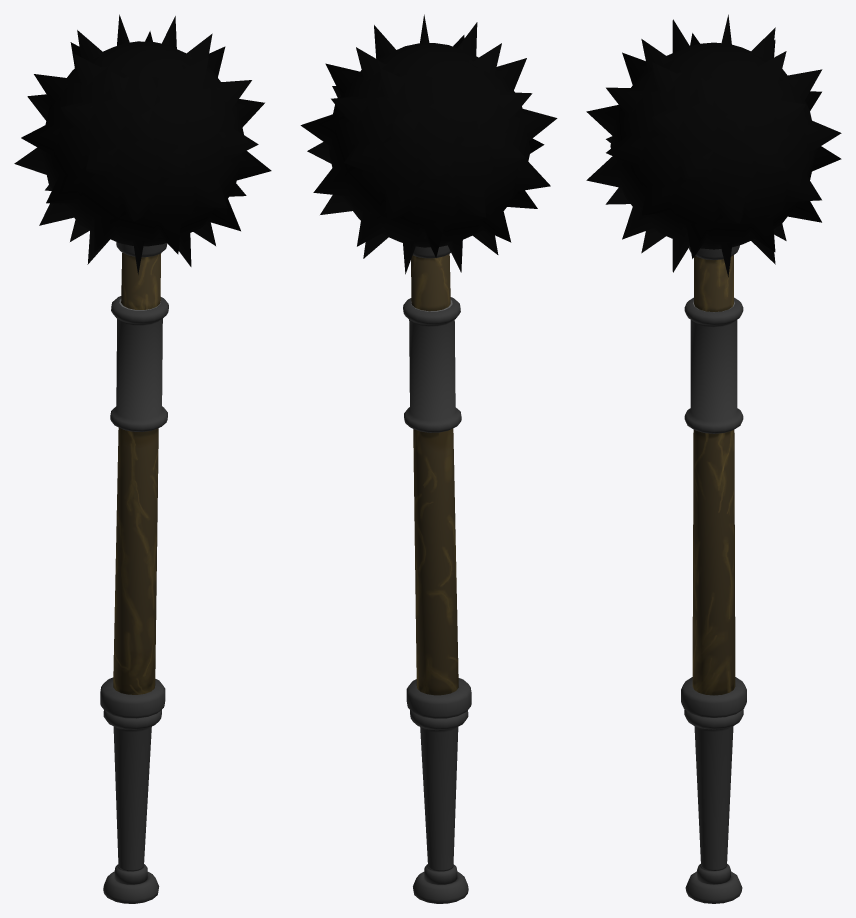
The model's file is gurz.fbx.
The picture shows the model from 3 angles, left to right: view 1: azimuth 30°, elevation 25°; view 2: azimuth 150°, elevation 25°; view 3: azimuth 270°, elevation 25°; orthographic projection.
Parts seen in each view (by area): view 1: gurz; view 2: gurz; view 3: gurz.
Part boxes in pixels (x1,y1,x2,y2): gurz: (14,14,271,903); gurz: (300,14,557,903); gurz: (586,14,841,903).
Bounding box in the file's own units: 54.57 × 202 × 54.57.
Materials: 1 (1 with a texture image).
